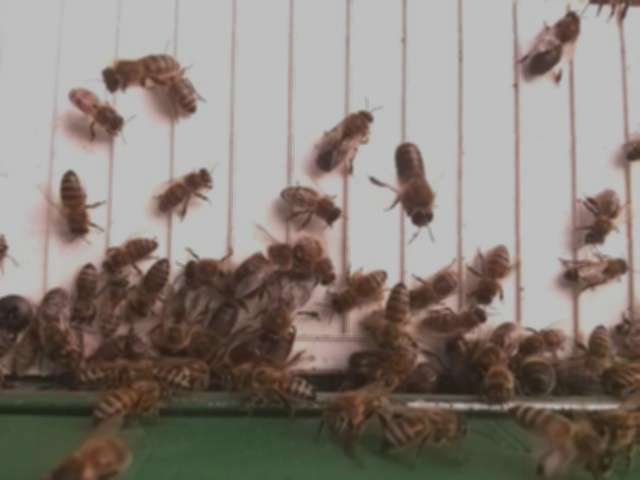Drone: (232, 239, 310, 297), (313, 104, 377, 174), (527, 6, 585, 79), (258, 275, 315, 347), (394, 140, 438, 228), (156, 280, 205, 359), (183, 255, 257, 290)
Worker: (102, 51, 181, 93), (67, 84, 129, 137), (278, 182, 349, 225), (329, 266, 390, 314), (156, 166, 215, 214), (560, 253, 634, 290), (407, 265, 465, 311), (132, 255, 173, 320), (582, 184, 624, 246), (420, 300, 489, 336), (60, 165, 92, 241), (97, 272, 131, 342), (476, 240, 512, 304), (102, 234, 162, 272), (581, 319, 613, 387), (68, 259, 100, 324), (165, 64, 202, 116), (382, 279, 411, 345)
